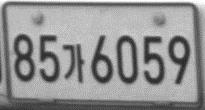0: (116, 34, 138, 83)
5: (143, 35, 164, 84), (39, 34, 60, 82)
6: (90, 34, 114, 83)
8: (13, 33, 35, 81)
9: (167, 34, 190, 84)
가: (62, 43, 85, 83)
